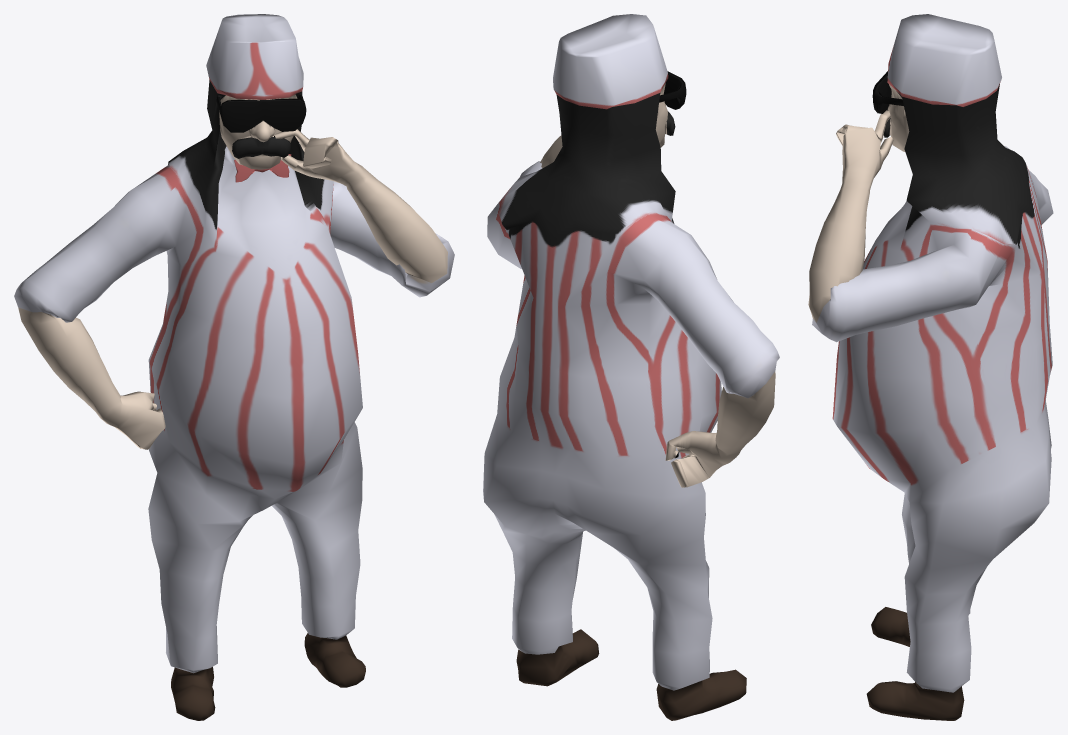
The model's file is Glasse_Intro_Pose.fbx.
3 views of the same model, side by side, from view 1: azimuth 30°, elevation 25°; view 2: azimuth 150°, elevation 25°; view 3: azimuth 270°, elevation 25° (orthographic). The views are drawn at different scales.
Visible parts, largest first — view 1: Glasse_retopo1; view 2: Glasse_retopo1; view 3: Glasse_retopo1.
Part boxes in pixels (bbox=[...]): Glasse_retopo1: bbox=[14, 14, 454, 720]; Glasse_retopo1: bbox=[483, 14, 779, 720]; Glasse_retopo1: bbox=[808, 14, 1053, 720].
Size of the model in its own units: 1.05 by 1.95 by 0.6594.
1 material, 1 textured.
